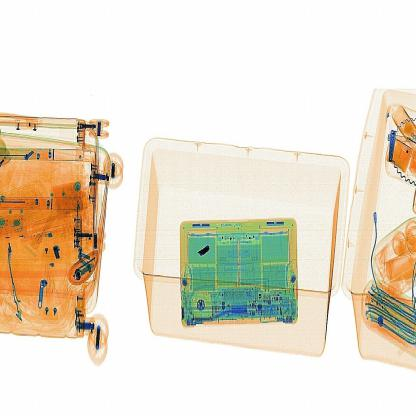knife: (194, 236, 220, 272)
